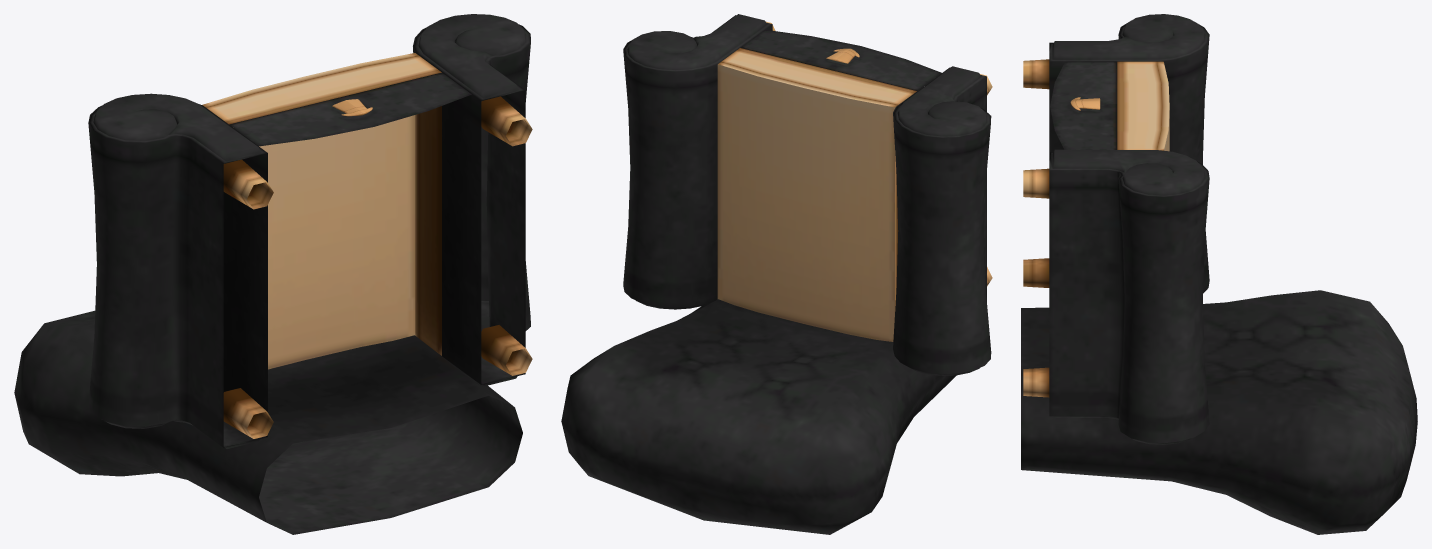
Rendered from HomeChairR.obj.
The picture shows the model from 3 angles, left to right: view 1: azimuth 30°, elevation 25°; view 2: azimuth 150°, elevation 25°; view 3: azimuth 270°, elevation 25°; orthographic projection. The views are drawn at different scales.
Parts seen in each view (by area): view 1: ChairR__BodyRMT; view 2: ChairR__BodyRMT; view 3: ChairR__BodyRMT.
Part boxes in pixels (x1,y1,x2,y2): ChairR__BodyRMT: [14, 14, 532, 534]; ChairR__BodyRMT: [561, 14, 992, 534]; ChairR__BodyRMT: [1021, 14, 1417, 534].
Bounding box in the file's own units: 173 × 170 × 159.
2 materials, 1 textured.
